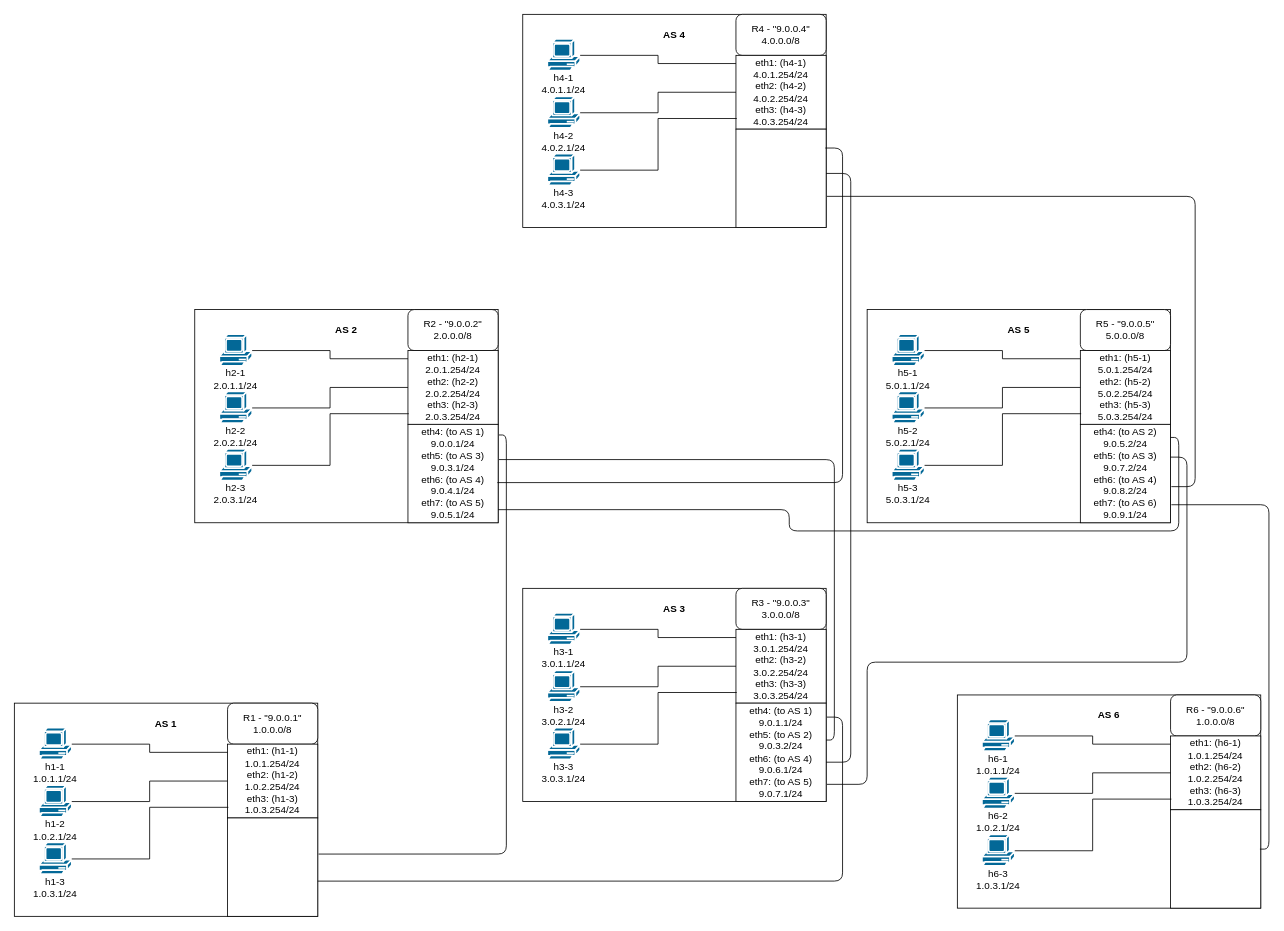
Image size: 1284x931. Some labels were removed from this diagram. Each missing label, with the centre of its shape:
"eth4: (to AS 2) 9.0.0.2/24 eth5: (to AS 3) 9.0.1.2/24" belongs at point 272,866.
"eth4: (to AS 2) 9.0.4.2/24 eth5: (to AS 3) 9.0.6.2/24 eth6: (to AS 5) 9.0.8.1/24" belongs at point 780,178.
"eth4: (to AS 5) 9.0.9.2/24" belongs at point 1215,858.
